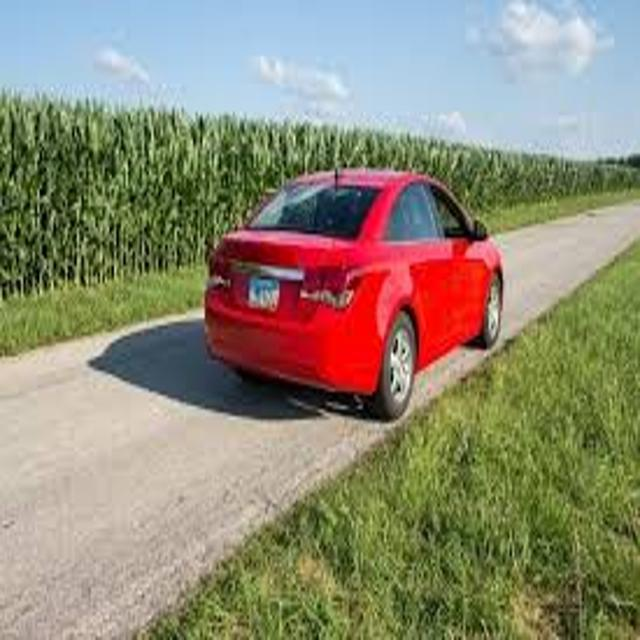car: (206, 168, 502, 421)
